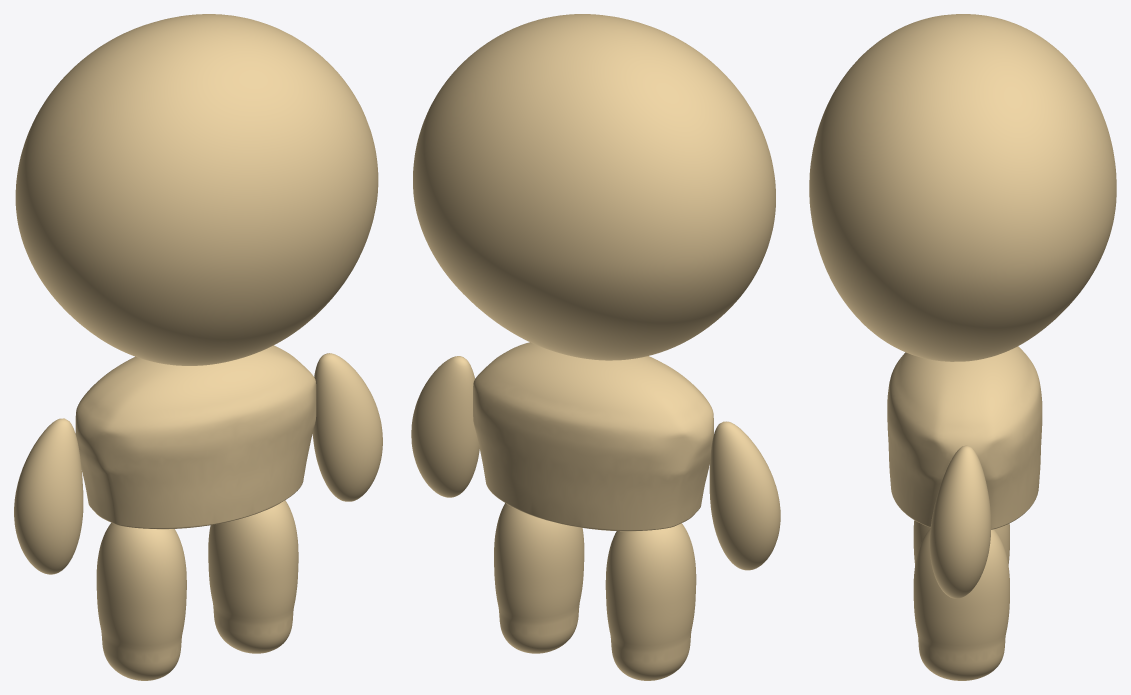
File: Masculine-base264.glb
The picture shows the model from 3 angles, left to right: view 1: azimuth 30°, elevation 25°; view 2: azimuth 150°, elevation 25°; view 3: azimuth 270°, elevation 25°; orthographic projection. The views are drawn at different scales.
Parts seen in each view (by area): view 1: Skin / soft oval head, Skin / rounded torso, Skin / pants fitted leg -1, Skin / pants fitted leg 1, Skin / swept arm -1, Skin / swept arm 1; view 2: Skin / soft oval head, Skin / rounded torso, Skin / pants fitted leg -1, Skin / pants fitted leg 1, Skin / swept arm -1, Skin / swept arm 1; view 3: Skin / soft oval head, Skin / rounded torso, Skin / pants fitted leg 1, Skin / swept arm 1, Skin / pants fitted leg -1.
Boxes of the visible parts, x1,y1,x2,y2 form: Skin / soft oval head: (15, 14, 378, 365); Skin / rounded torso: (75, 345, 316, 529); Skin / pants fitted leg -1: (96, 523, 186, 680); Skin / pants fitted leg 1: (208, 500, 298, 653); Skin / swept arm -1: (14, 418, 83, 574); Skin / swept arm 1: (312, 353, 382, 501); Skin / soft oval head: (413, 14, 775, 360); Skin / rounded torso: (473, 342, 713, 531); Skin / pants fitted leg -1: (605, 523, 696, 680); Skin / pants fitted leg 1: (494, 503, 584, 653); Skin / swept arm -1: (709, 421, 780, 570); Skin / swept arm 1: (411, 356, 479, 497); Skin / soft oval head: (809, 14, 1116, 361); Skin / rounded torso: (887, 346, 1042, 529); Skin / pants fitted leg 1: (913, 528, 1009, 680); Skin / swept arm 1: (929, 445, 991, 598); Skin / pants fitted leg -1: (913, 520, 1009, 565).
Bounding box in the file's own units: 1.07 × 1.8 × 0.81.
